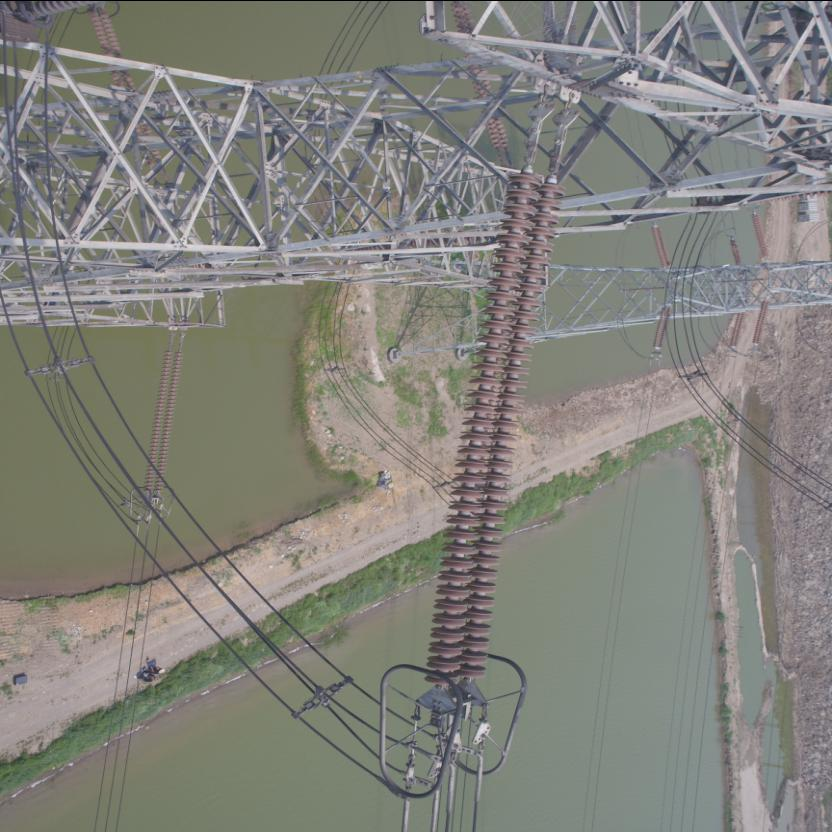insulator: (425, 131, 571, 698), (144, 343, 192, 499)
